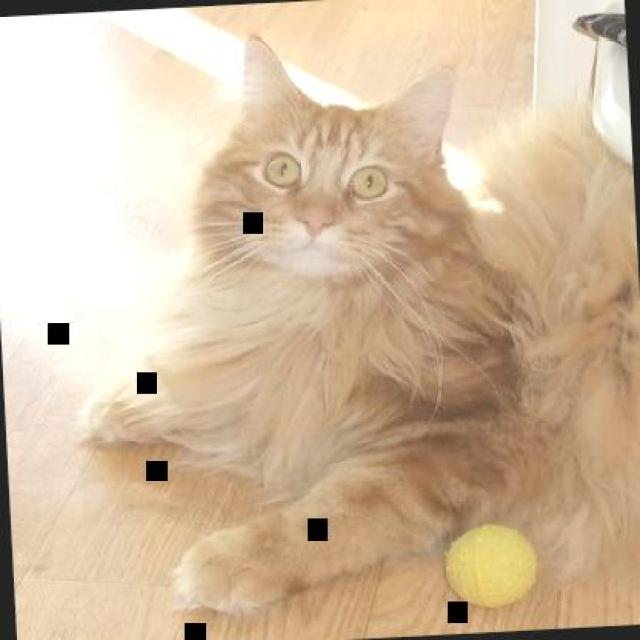cat: (76, 9, 638, 620)
